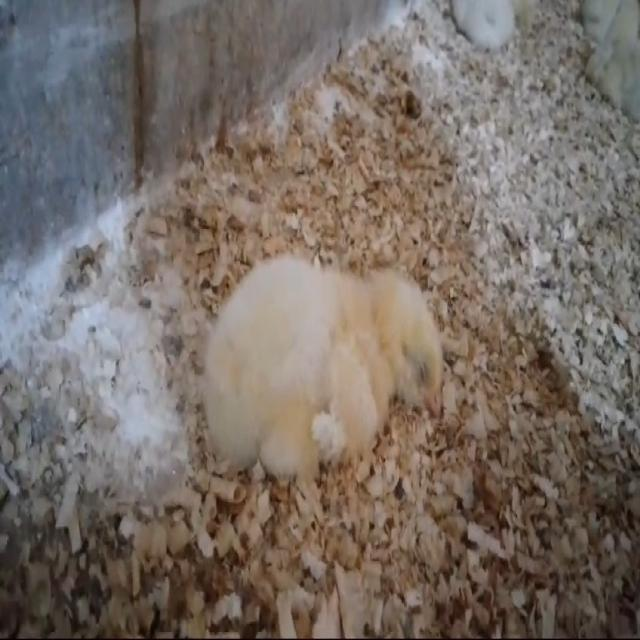dead: (176, 231, 458, 461)
